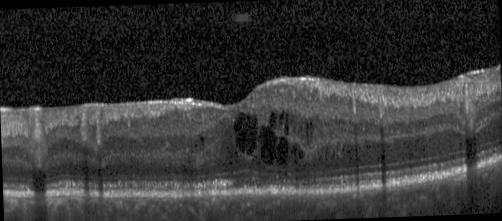intraretinal_cyst: (233, 111, 258, 154), (260, 125, 276, 165), (273, 136, 287, 163), (283, 113, 289, 134), (268, 111, 276, 126), (278, 109, 283, 126), (297, 147, 305, 157), (290, 145, 296, 155), (305, 122, 308, 139), (309, 121, 312, 137), (290, 114, 293, 123), (200, 135, 203, 142), (195, 142, 197, 147)
